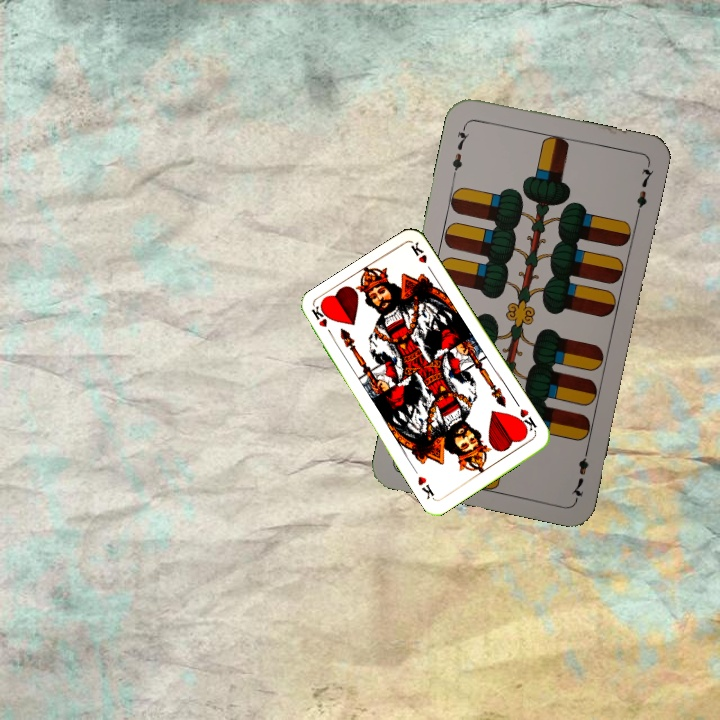E7: (448, 120, 472, 179), (568, 443, 592, 502)
HK: (308, 303, 337, 341), (513, 404, 540, 436)
